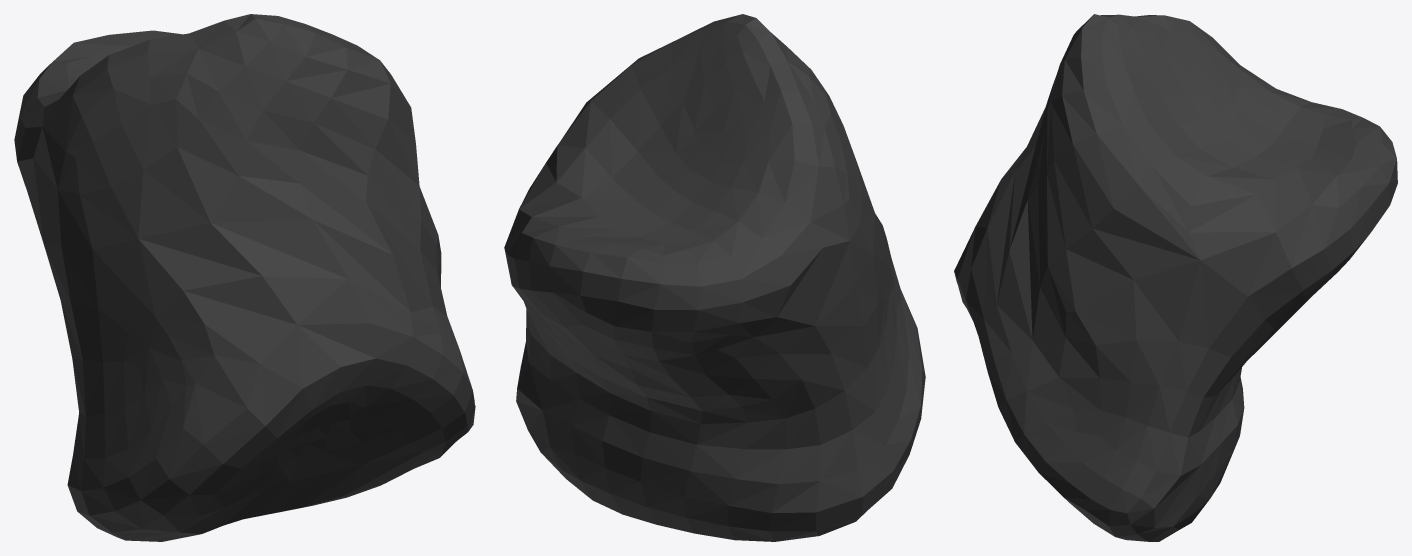
3 renders of one model, left to right at view 1: azimuth 30°, elevation 25°; view 2: azimuth 150°, elevation 25°; view 3: azimuth 270°, elevation 25°, orthographic. The views are drawn at different scales.
Visible parts, largest first — view 1: HL_P2_L; view 2: HL_P2_L; view 3: HL_P2_L.
Part boxes in pixels (left/top/right/bottom): HL_P2_L: left=14, top=14, right=475, bottom=541; HL_P2_L: left=504, top=14, right=925, bottom=541; HL_P2_L: left=954, top=14, right=1397, bottom=541.
Size of the model in its own units: 0.0815 by 0.1049 by 0.0897.
Materials: 1 (1 with a texture image).
